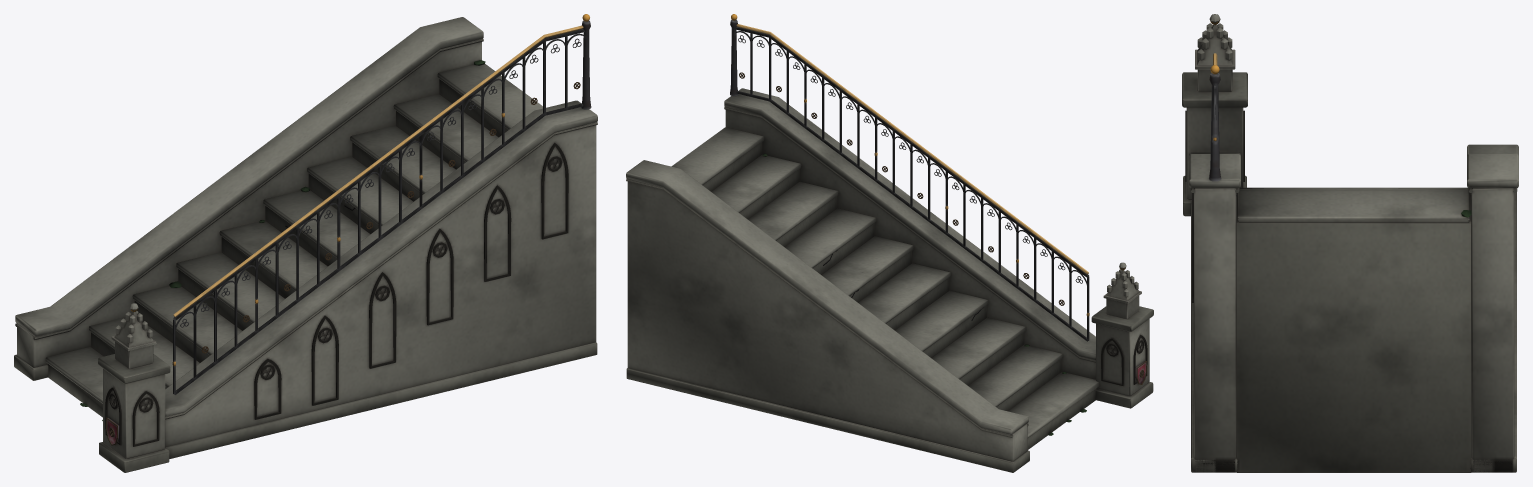
Rendered from EntranceSideFlightL.fbx.
3 views of the same model, side by side, from view 1: azimuth 30°, elevation 25°; view 2: azimuth 150°, elevation 25°; view 3: azimuth 270°, elevation 25° (orthographic). The views are drawn at different scales.
Parts seen in each view (by area): view 1: EntranceSideFlightL_Main, EntranceSideFlightL_Rail; view 2: EntranceSideFlightL_Main, EntranceSideFlightL_Rail; view 3: EntranceSideFlightL_Main, EntranceSideFlightL_Rail.
Boxes of the visible parts, box(x1,y1,x2,y2) form: EntranceSideFlightL_Main: box(14, 17, 597, 472); EntranceSideFlightL_Rail: box(172, 14, 591, 394); EntranceSideFlightL_Main: box(626, 88, 1153, 472); EntranceSideFlightL_Rail: box(730, 14, 1089, 341); EntranceSideFlightL_Main: box(1182, 14, 1518, 472); EntranceSideFlightL_Rail: box(1209, 53, 1220, 181).
Bounding box in the file's own units: 1433 × 955 × 715.
